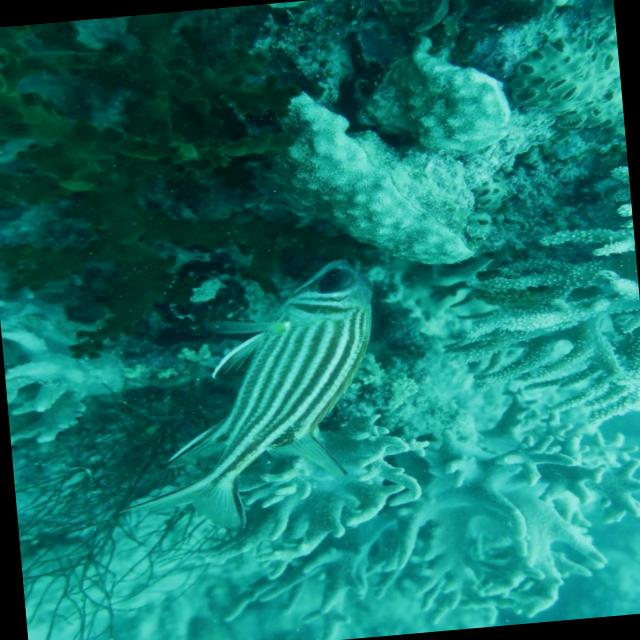Asker Baligi: (96, 254, 396, 542)
